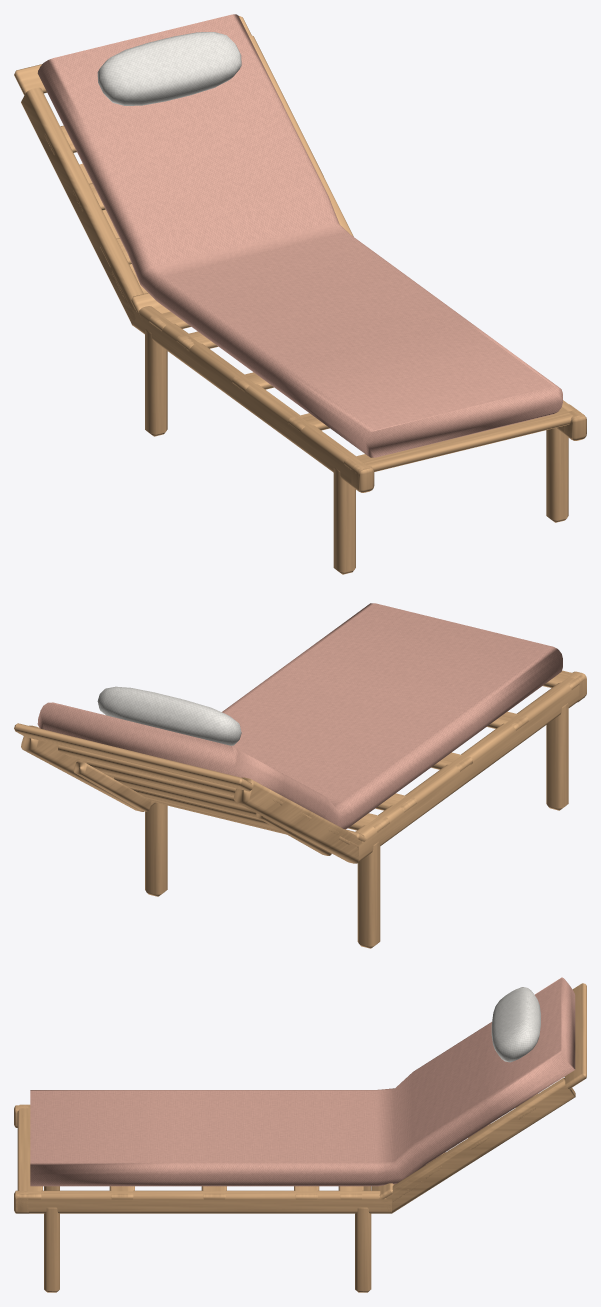
Rendered from prop_lounger.glb.
The picture shows the model from 3 angles, top to bottom: view 1: azimuth 30°, elevation 25°; view 2: azimuth 150°, elevation 25°; view 3: azimuth 270°, elevation 25°; orthographic projection. The views are drawn at different scales.
Parts seen in each view (by area): view 1: prop_lounger; view 2: prop_lounger; view 3: prop_lounger.
Boxes of the visible parts, x1,y1,x2,y2 form: prop_lounger: (14,14,586,574); prop_lounger: (14,603,586,948); prop_lounger: (14,977,586,1292).
Bounding box in the file's own units: 0.7563 × 0.9275 × 1.98.
3 materials, 3 textured.
